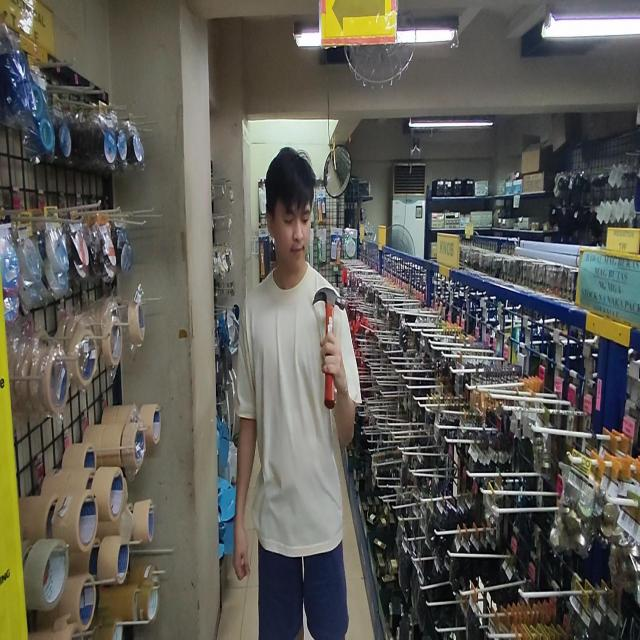hammer: (312, 287, 346, 409)
